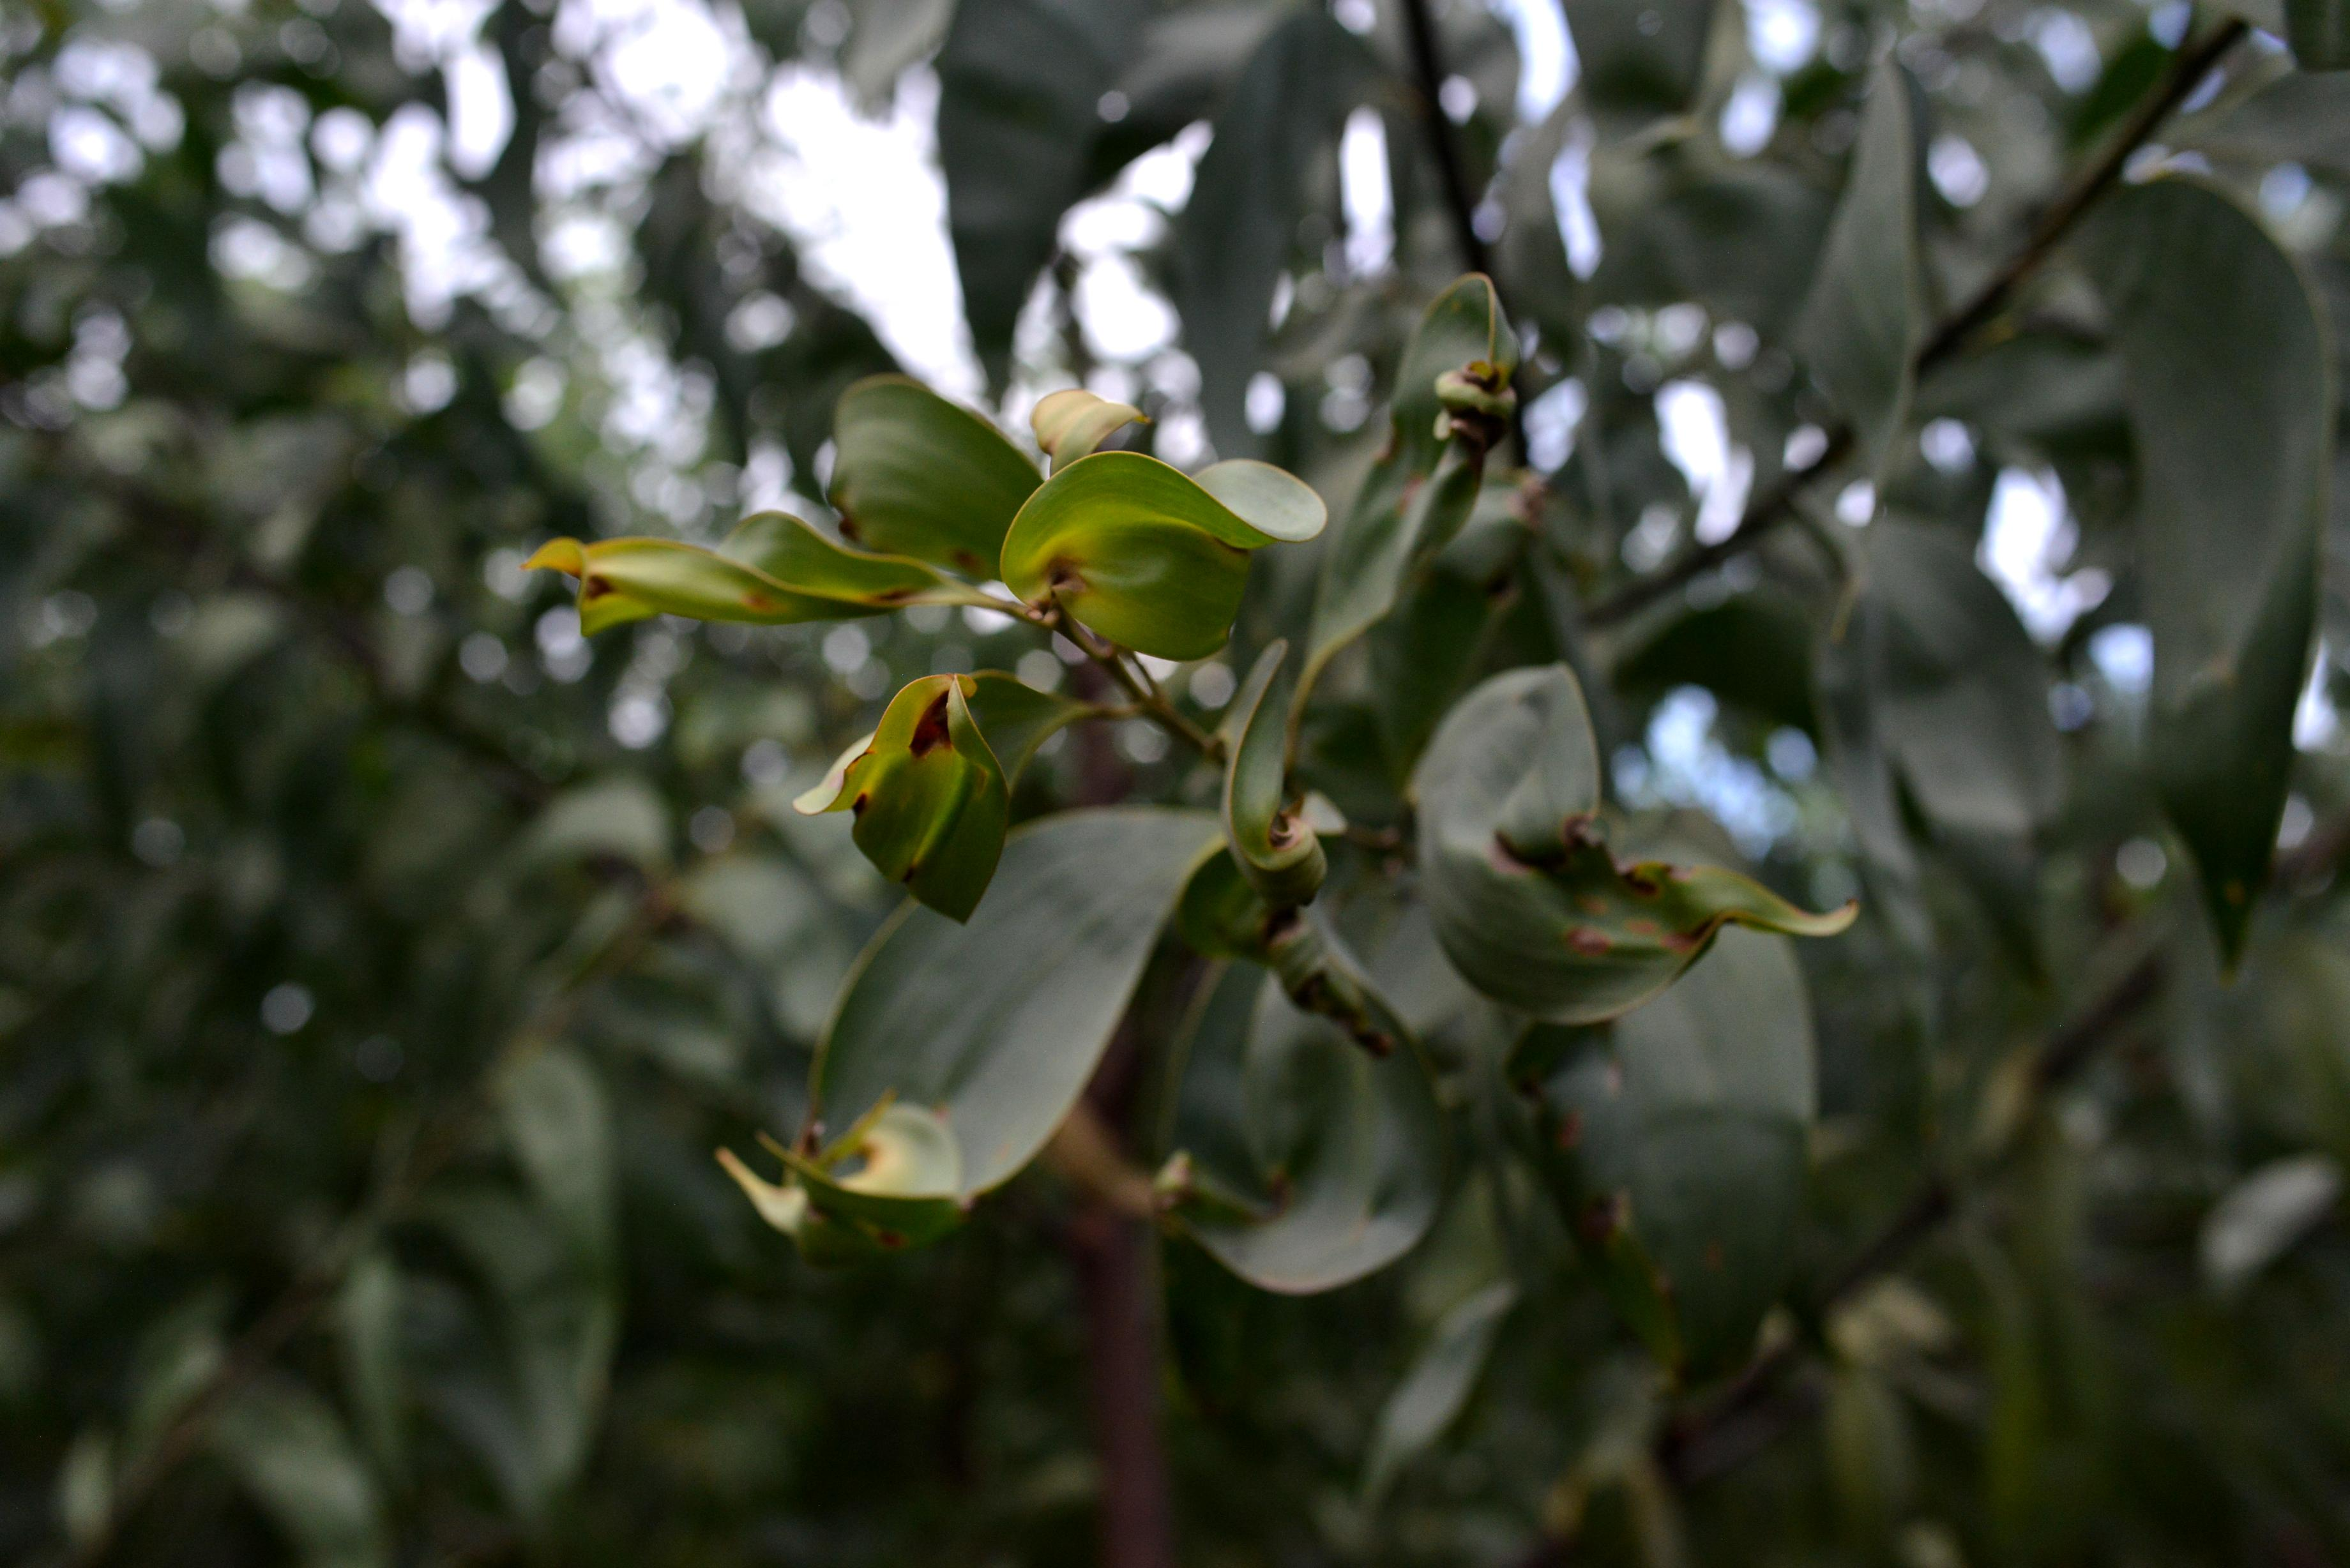Pasalora: (1169, 689, 1431, 1286), (1465, 661, 1862, 1022), (1351, 255, 1556, 633), (674, 1048, 1003, 1279), (1003, 437, 1330, 667), (751, 674, 1029, 936), (511, 492, 959, 640)
